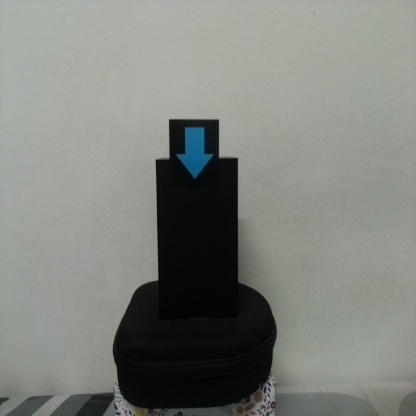id_2: (169, 120, 220, 187)
